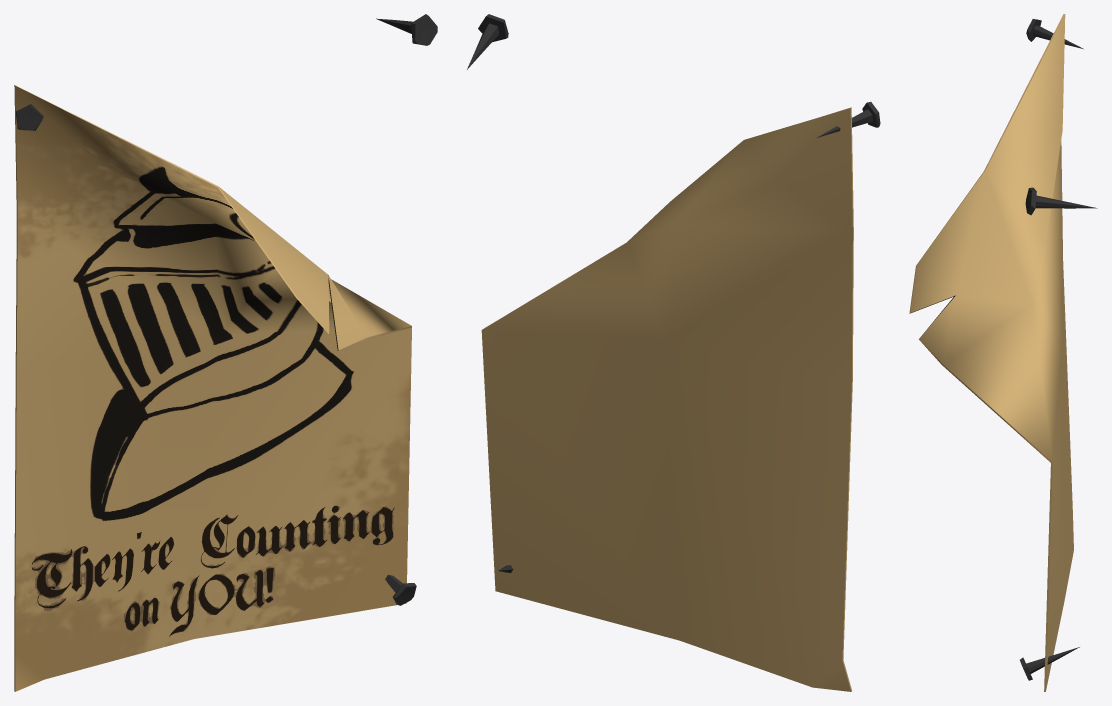
Rendered from poster01.fbx.
3 views of the same model, side by side, from view 1: azimuth 30°, elevation 25°; view 2: azimuth 150°, elevation 25°; view 3: azimuth 270°, elevation 25° (orthographic). The views are drawn at different scales.
Visible parts, largest first — view 1: poster04, p4nail01; view 2: poster04, p4nail01; view 3: poster04, p4nail01, p4nail03, p4nail02.
Boxes of the visible parts, box(x1,y1,x2,y2) form: poster04: box(14, 85, 411, 691); p4nail01: box(376, 14, 437, 45); poster04: box(481, 107, 853, 691); p4nail01: box(467, 14, 508, 69); poster04: box(909, 14, 1073, 691); p4nail01: box(1025, 187, 1097, 215); p4nail03: box(1020, 647, 1079, 680); p4nail02: box(1026, 19, 1083, 48).
Bounding box in the file's own units: 26.44 × 36.64 × 11.98.
